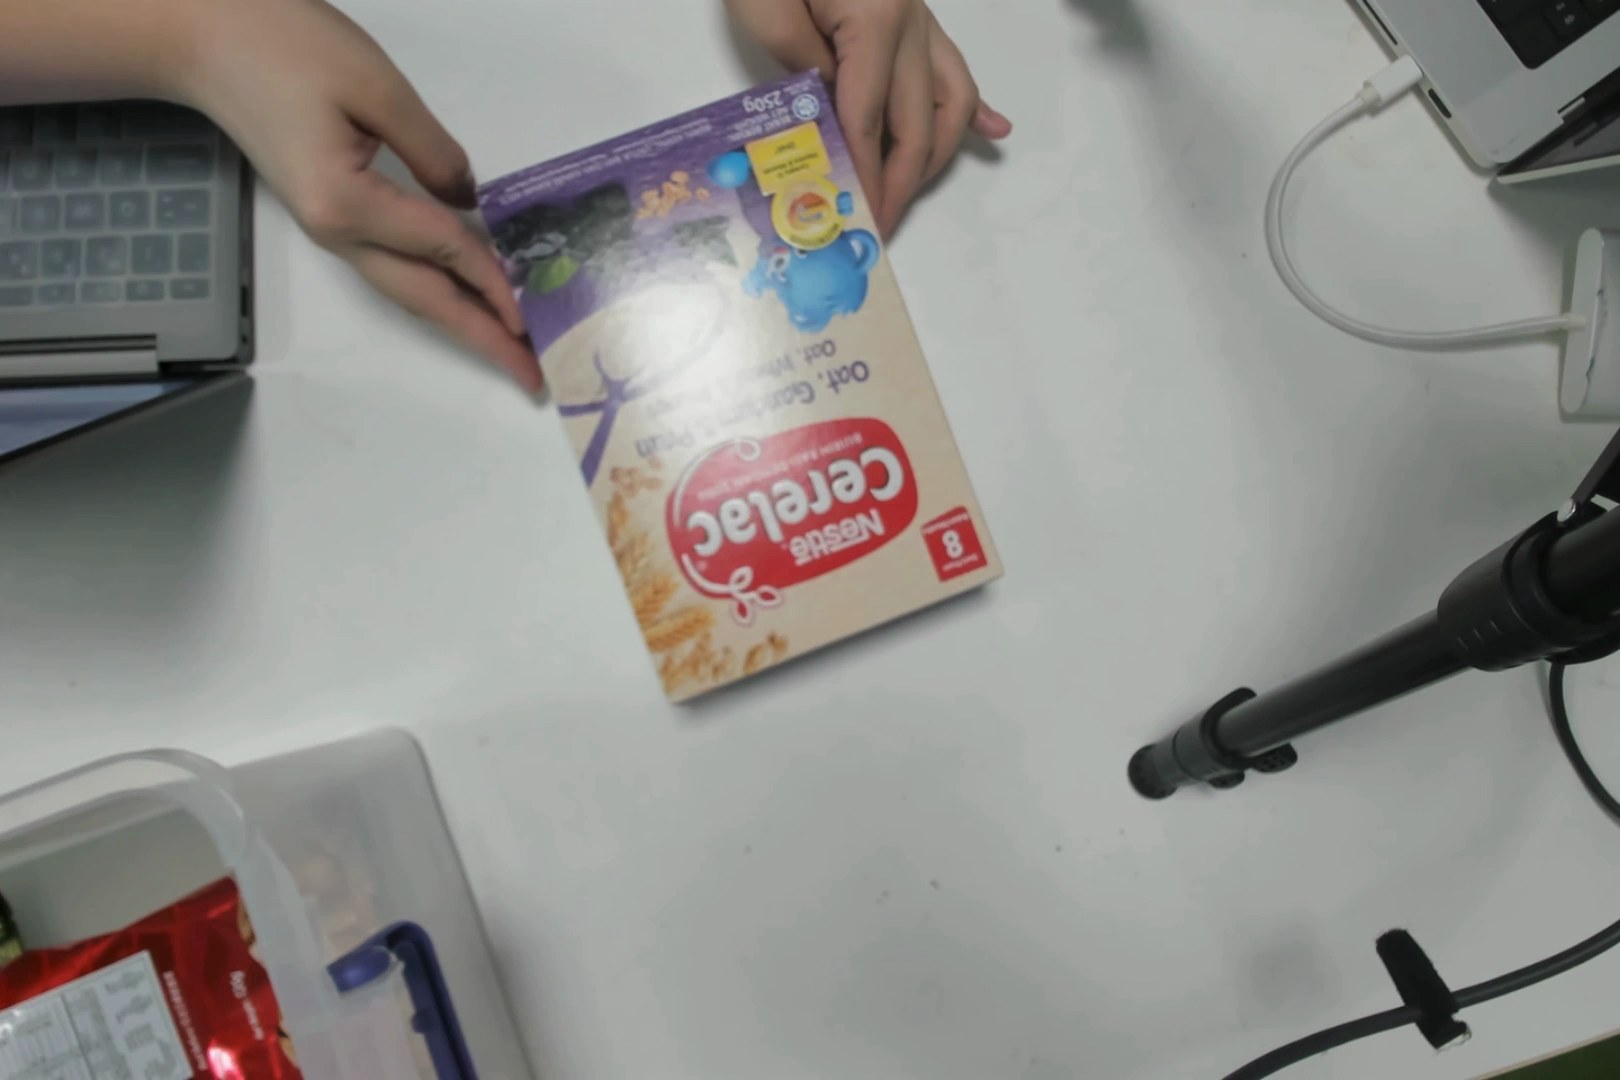d: (528, 101, 858, 639)
